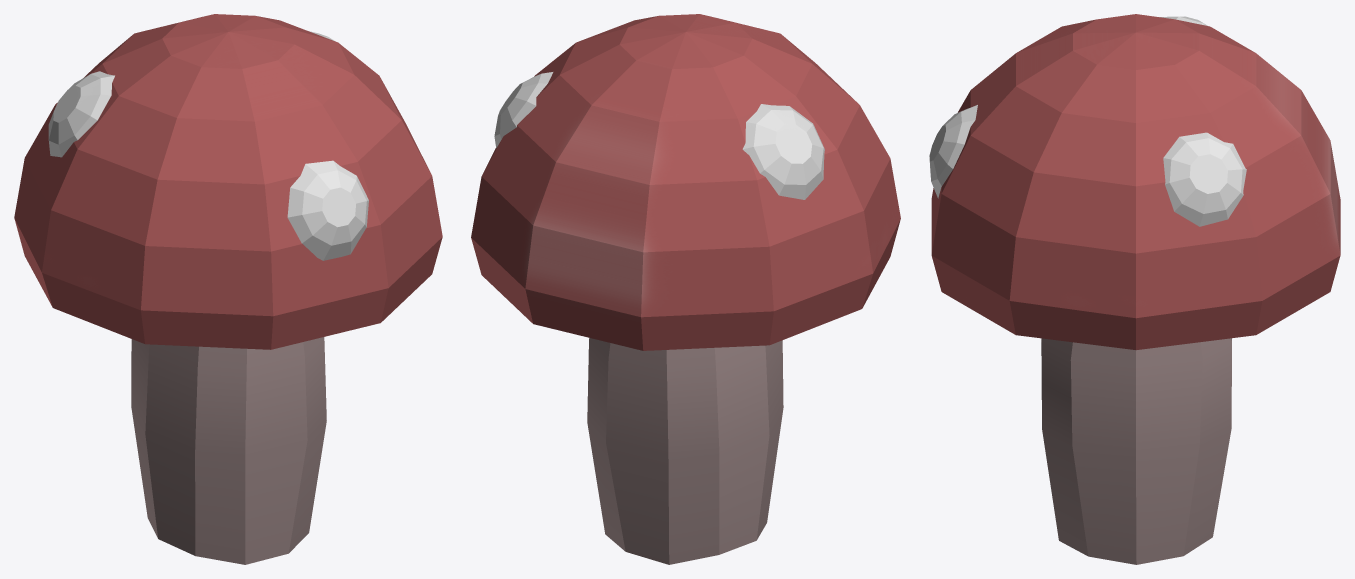
Rendered from red mushroom fbx.fbx.
3 views of the same model, side by side, from view 1: azimuth 30°, elevation 25°; view 2: azimuth 150°, elevation 25°; view 3: azimuth 270°, elevation 25° (orthographic).
Visible parts, largest first — view 1: polySurface34; view 2: polySurface34; view 3: polySurface34.
Part boxes in pixels (box(x1,y1,x2,y2)): polySurface34: box(14, 14, 442, 564); polySurface34: box(471, 14, 900, 564); polySurface34: box(929, 14, 1340, 564).
Bounding box in the file's own units: 2 × 2.58 × 1.91.
Materials: 1 (1 with a texture image).
